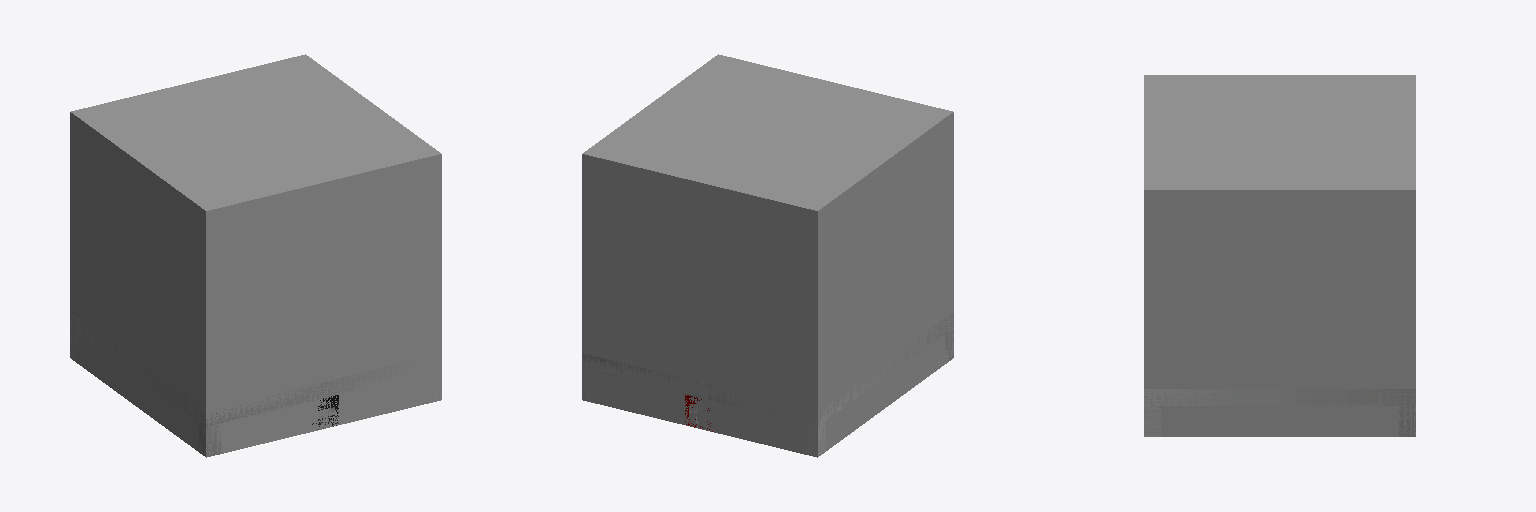
3 views of the same model, side by side, from view 1: azimuth 30°, elevation 25°; view 2: azimuth 150°, elevation 25°; view 3: azimuth 270°, elevation 25° (orthographic).
Visible parts, largest first — view 1: Minecraft_Block_Cube, main; view 2: Minecraft_Block_Cube, main; view 3: Minecraft_Block_Cube, main.
Boxes of the visible parts, x1=… form: Minecraft_Block_Cube: x1=70, y1=54, x2=441, y2=457; main: x1=70, y1=312, x2=441, y2=456; Minecraft_Block_Cube: x1=582, y1=54, x2=953, y2=456; main: x1=582, y1=313, x2=953, y2=457; Minecraft_Block_Cube: x1=1144, y1=75, x2=1415, y2=436; main: x1=1144, y1=389, x2=1415, y2=436.
Bounding box in the file's own units: 1 × 1 × 1.
Materials: 7 (5 with a texture image).